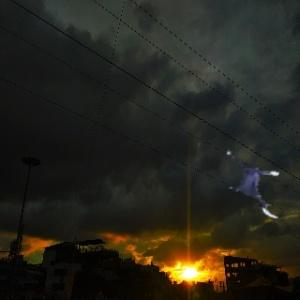drone: (221, 149, 297, 225)
